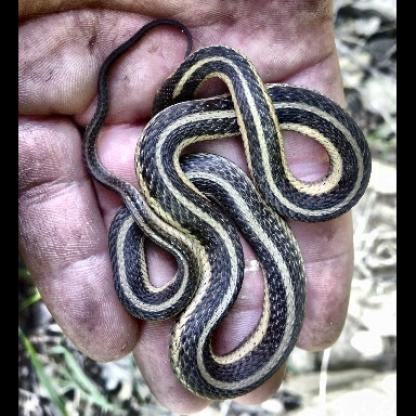Snake: (85, 17, 372, 395)
